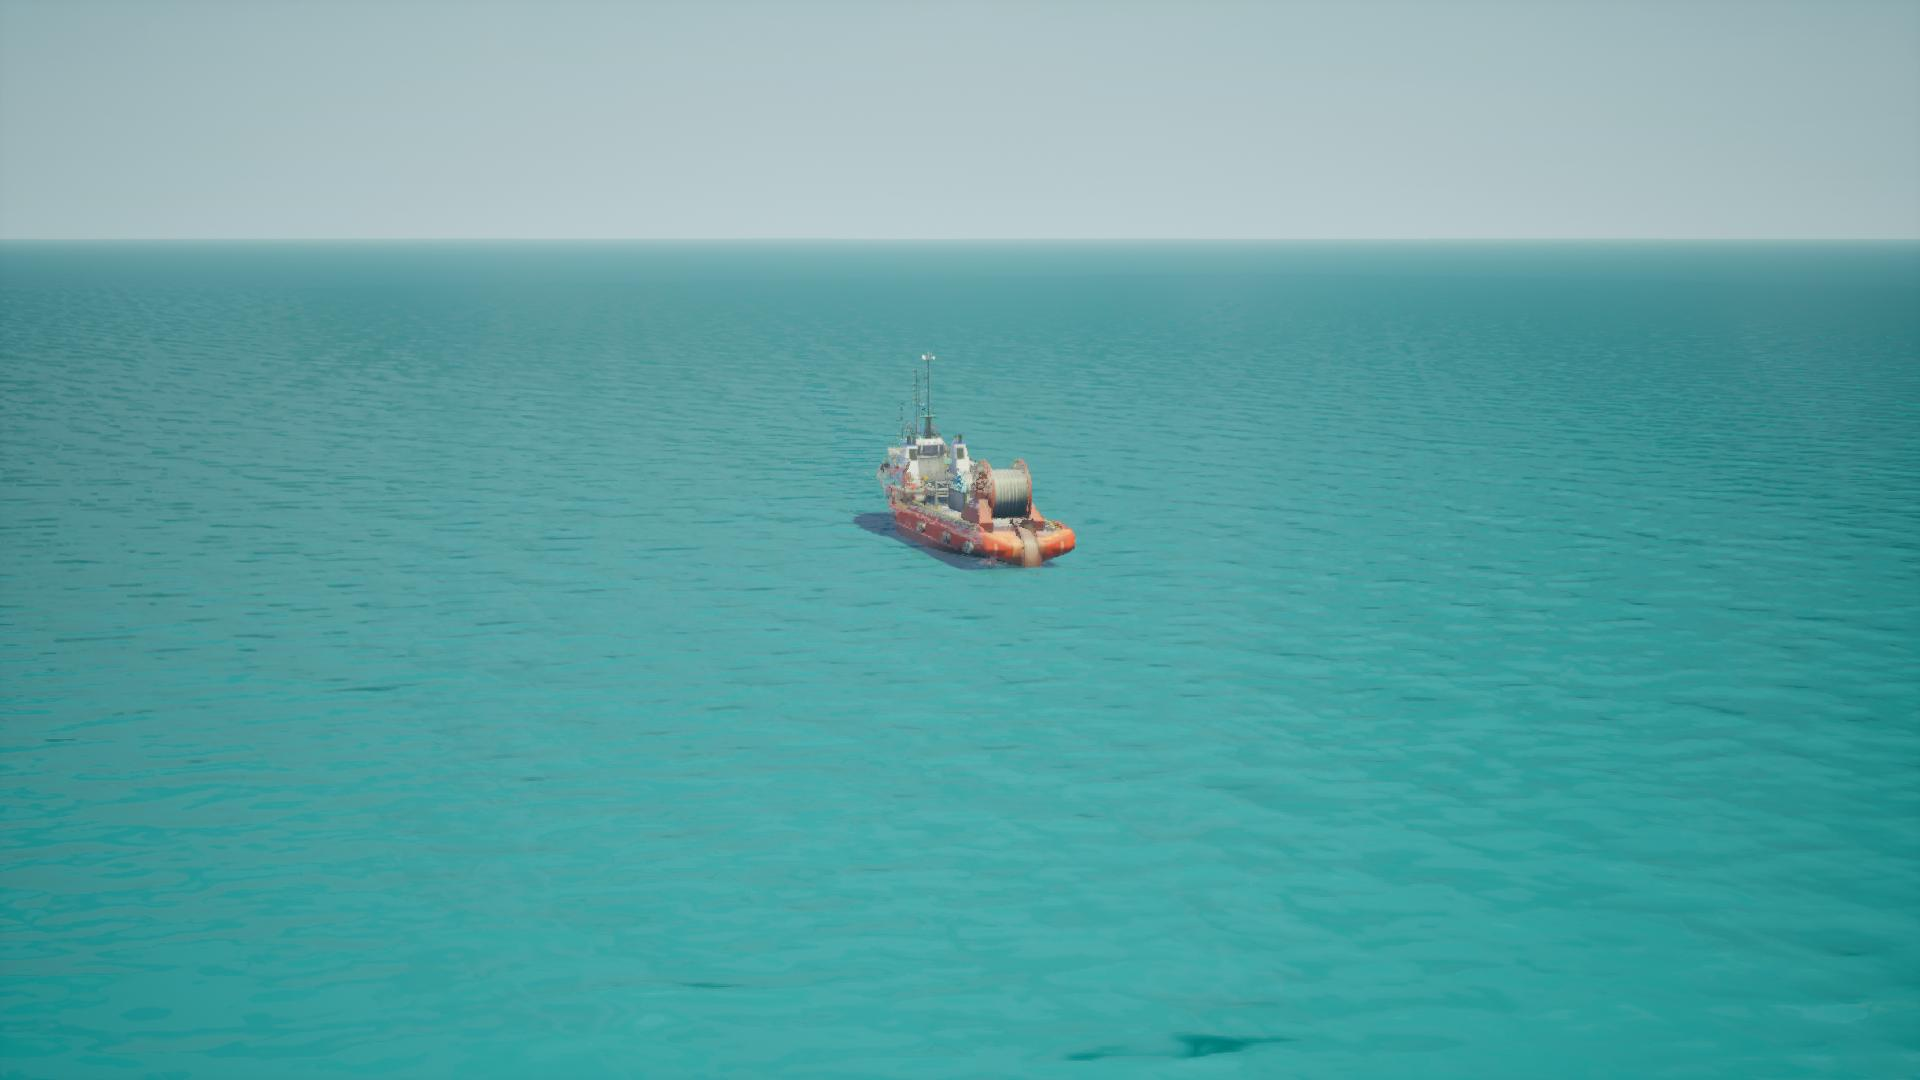Tug Boat: (862, 355, 1060, 576)
